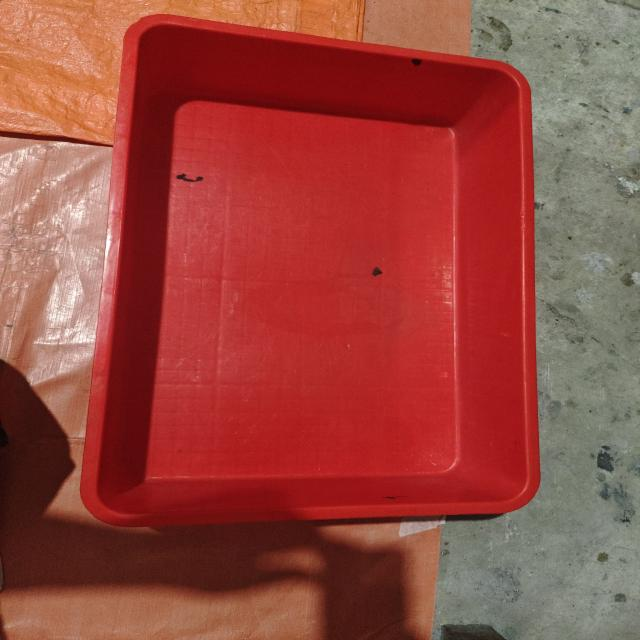red plastic box: (80, 13, 541, 528)
